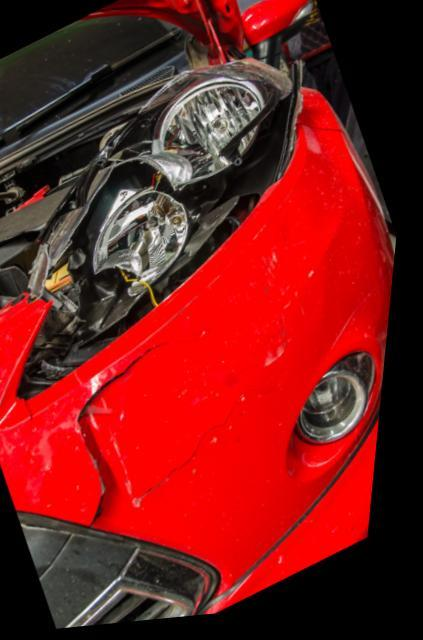crack: (85, 340, 210, 532), (144, 391, 291, 509)
lamp broken: (21, 63, 302, 399)
